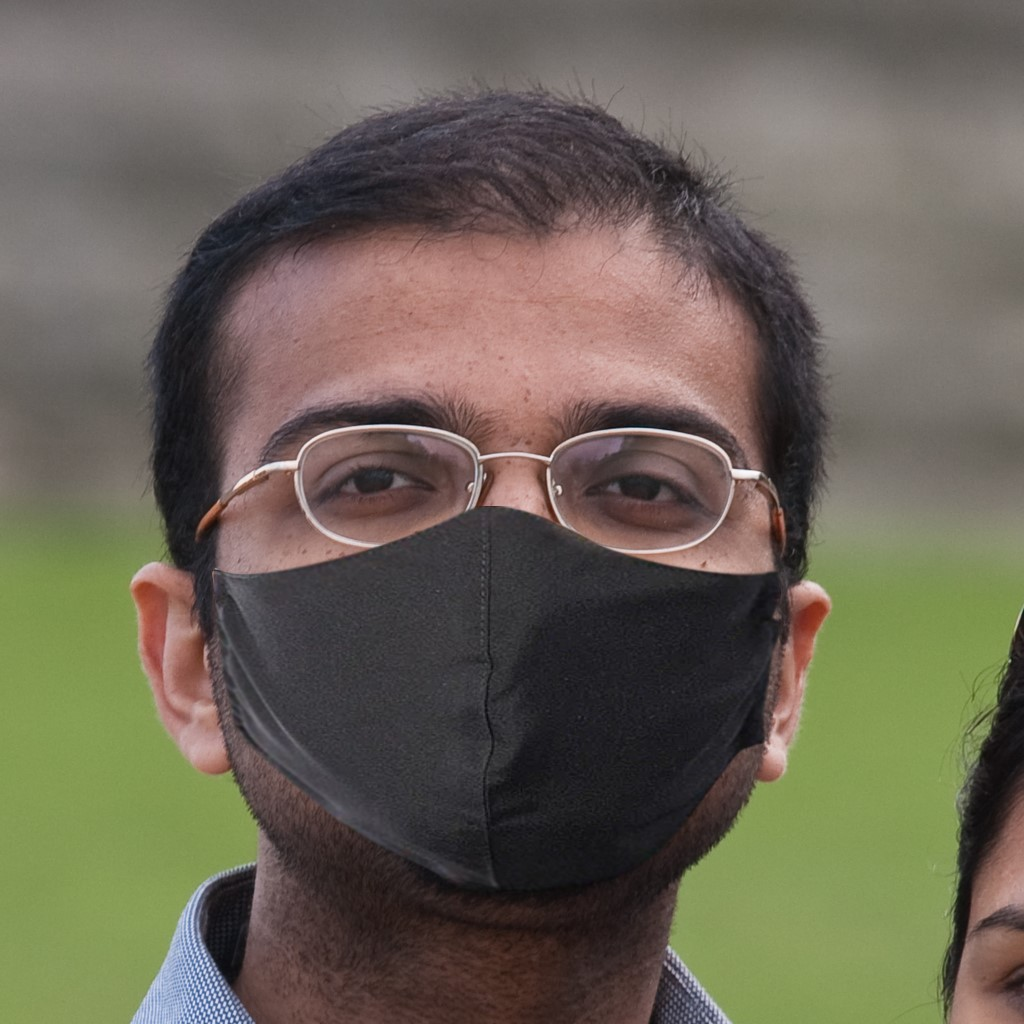con_mascara: (186, 205, 793, 908)
